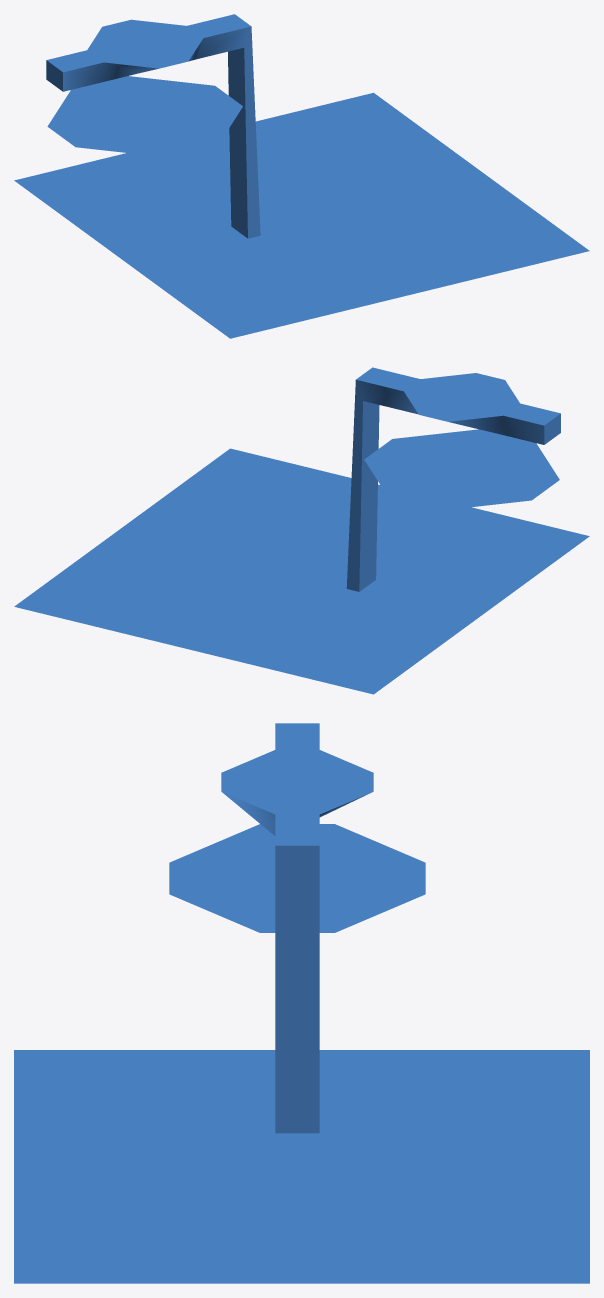
Rendered from bathhouse_water.fbx.
3 renders of one model, top to bottom at view 1: azimuth 30°, elevation 25°; view 2: azimuth 150°, elevation 25°; view 3: azimuth 270°, elevation 25°, orthographic. The views are drawn at different scales.
Parts seen in each view (by area): view 1: polySurface1223; view 2: polySurface1223; view 3: polySurface1223.
Part boxes in pixels (x1=…): polySurface1223: x1=14, y1=14, x2=589, y2=338; polySurface1223: x1=14, y1=367, x2=589, y2=694; polySurface1223: x1=14, y1=723, x2=589, y2=1283.
Size of the model in its own units: 237 by 114 by 207.
1 material, 1 textured.
